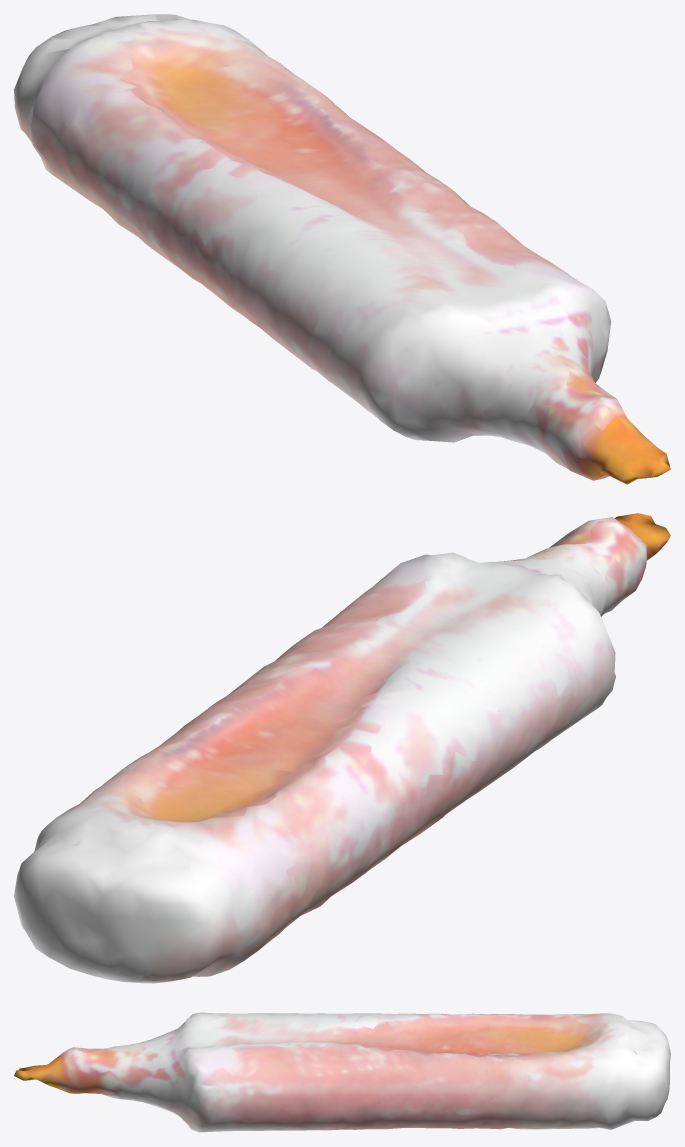
The model's file is scan_align.obj.
3 views of the same model, one above another, from view 1: azimuth 30°, elevation 25°; view 2: azimuth 150°, elevation 25°; view 3: azimuth 270°, elevation 25° (orthographic). The views are drawn at different scales.
Bounding box in the file's own units: 0.0257 × 0.0142 × 0.102.
Materials: 1 (1 with a texture image).
